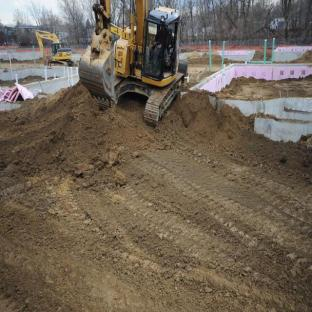ExcavationMachinery: (81, 1, 202, 126)
